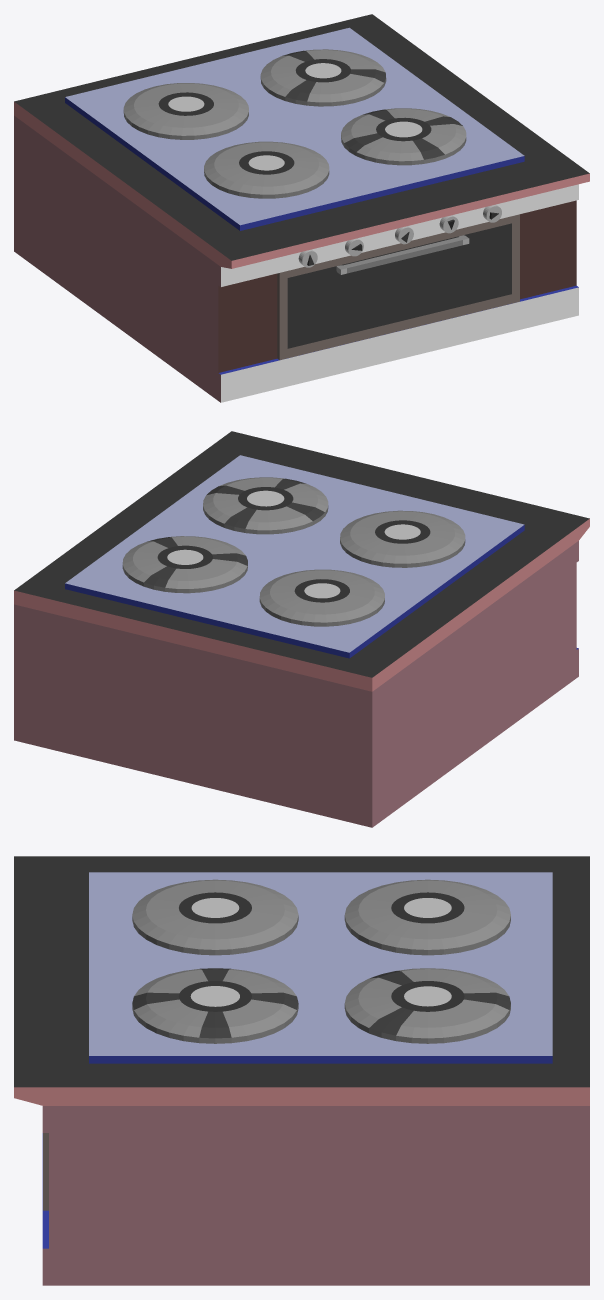
The model's file is Res01_Kitchen_Stove.fbx.
3 renders of one model, top to bottom at view 1: azimuth 30°, elevation 25°; view 2: azimuth 150°, elevation 25°; view 3: azimuth 270°, elevation 25°, orthographic. The views are drawn at different scales.
Parts seen in each view (by area): view 1: Res01_Kitchen_Stove; view 2: Res01_Kitchen_Stove; view 3: Res01_Kitchen_Stove.
Boxes of the visible parts, <box> form: Res01_Kitchen_Stove: <box>14,14,589,402</box>; Res01_Kitchen_Stove: <box>14,431,589,827</box>; Res01_Kitchen_Stove: <box>14,856,589,1285</box>.
Size of the model in its own units: 200 by 88.05 by 211.
